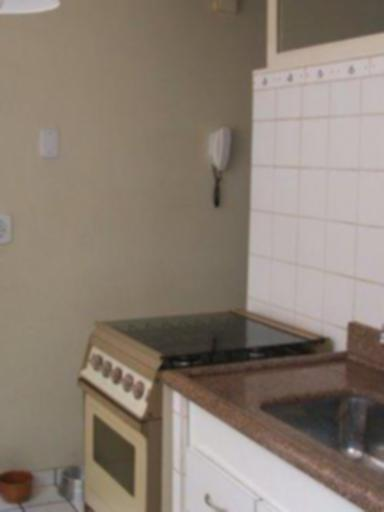Electrodomestico: (76, 314, 160, 512)
Lavaplatos: (245, 284, 384, 496)
Otro Obstaculo: (2, 461, 42, 511), (55, 455, 90, 499)
